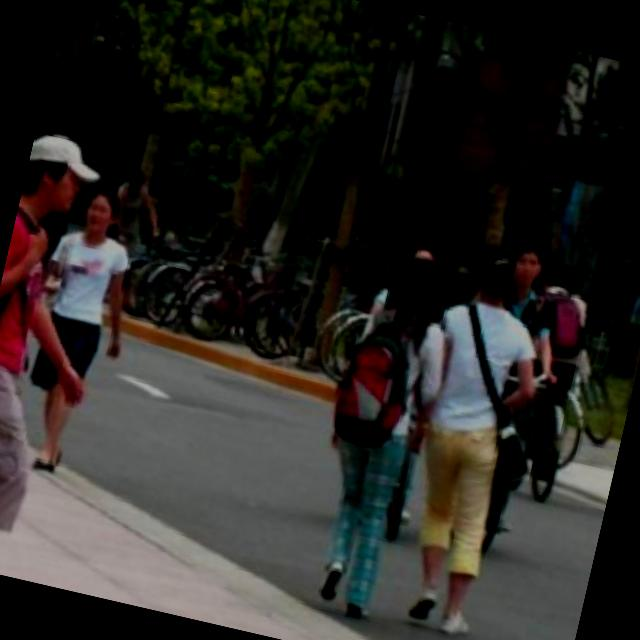Person: (379, 241, 554, 640), (282, 237, 452, 624), (0, 118, 112, 576), (5, 178, 156, 480)
